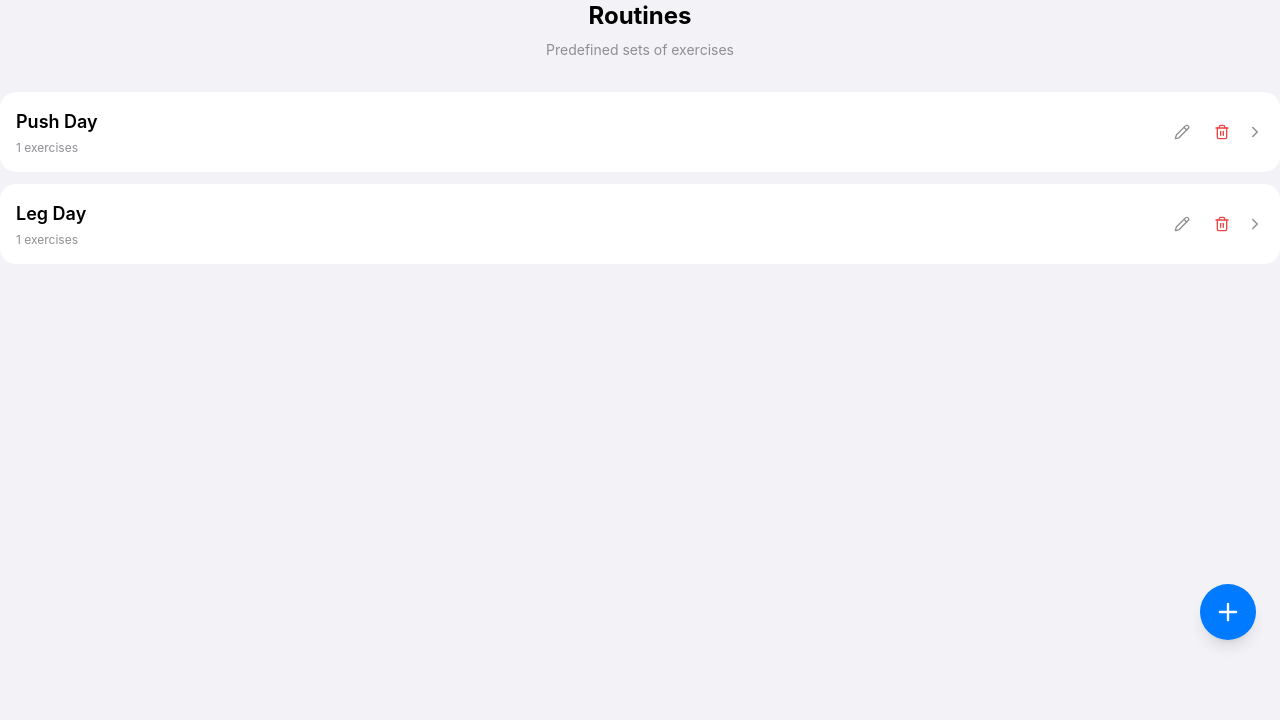
RoutinesScreen › opens edit modal pre-filled with routine data
Click the button named "Edit" in the row of "Push Day".
click(1182, 132)  # box left=1166, top=116, right=1198, bottom=148
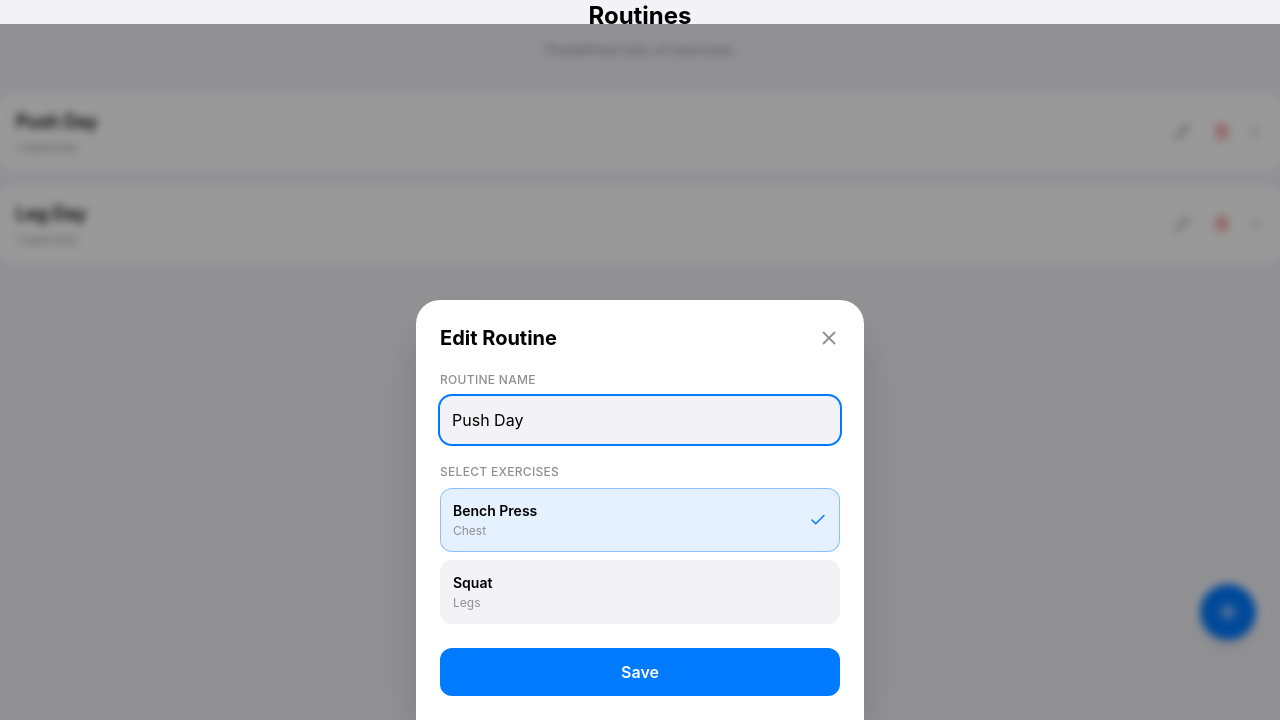
Check: the field showing "Push Day" is shown, box left=440, top=396, right=840, bottom=444
